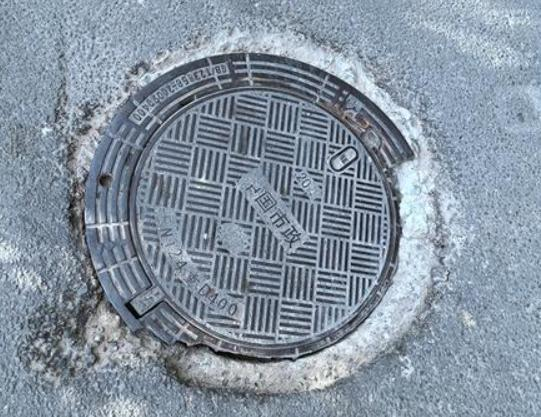wellcover: (84, 36, 436, 370)
